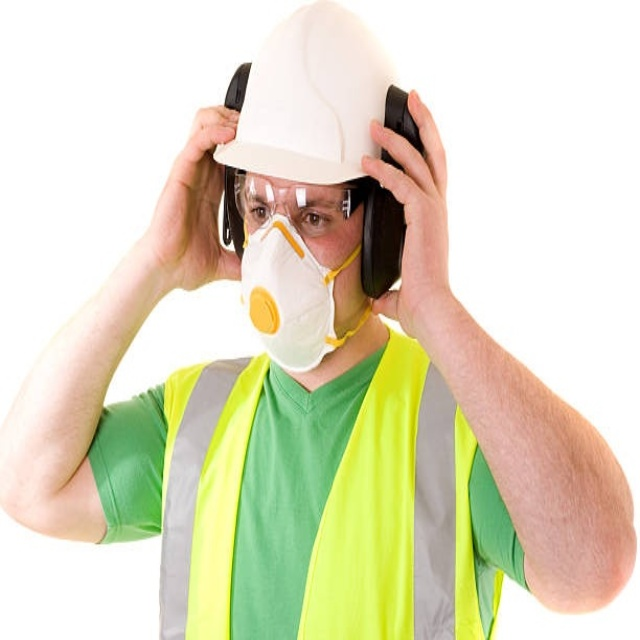Gafas: (234, 171, 365, 237)
Mascara: (240, 210, 352, 373)
Sin_guantes: (361, 85, 457, 350), (148, 103, 244, 299)
